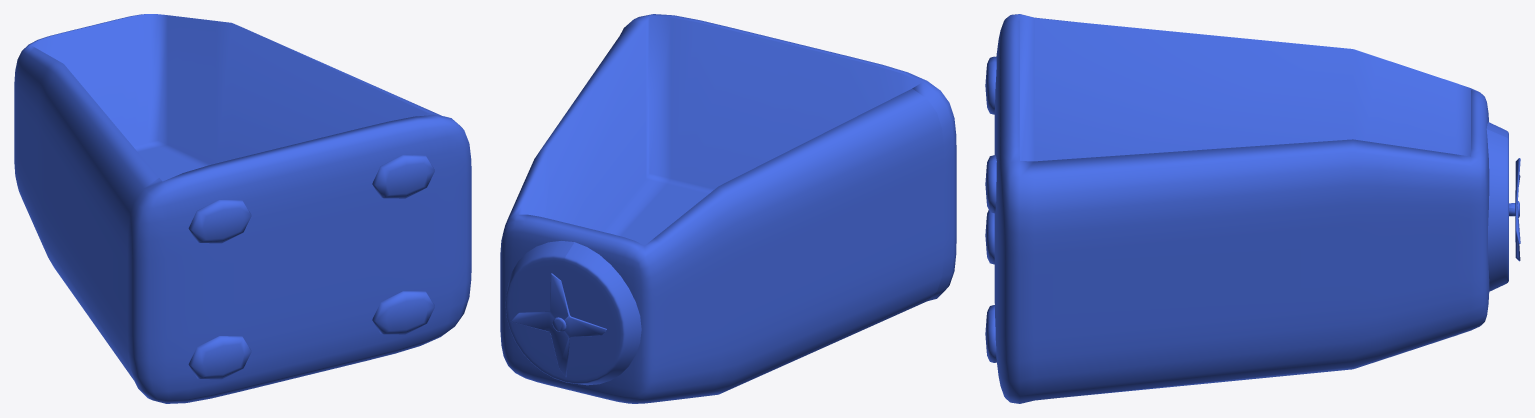
3 renders of one model, left to right at view 1: azimuth 30°, elevation 25°; view 2: azimuth 150°, elevation 25°; view 3: azimuth 270°, elevation 25°, orthographic. The views are drawn at different scales.
Visible parts, largest first — view 1: Blender, Blender.002, Blender.001; view 2: Blender.001, Blender, Blender.002; view 3: Blender, Blender.001, Blender.002.
Boxes of the visible parts, x1,y1,x2,y2 form: Blender: (91,14,471,376); Blender.002: (127,143,308,403); Blender.001: (14,26,158,379); Blender.001: (554,88,943,403); Blender: (500,14,791,391); Blender.002: (787,42,956,300); Blender: (985,81,1520,403); Blender.001: (1034,17,1520,261); Blender.002: (985,14,1034,264).
Bounding box in the file's own units: 288 × 188 × 358.
